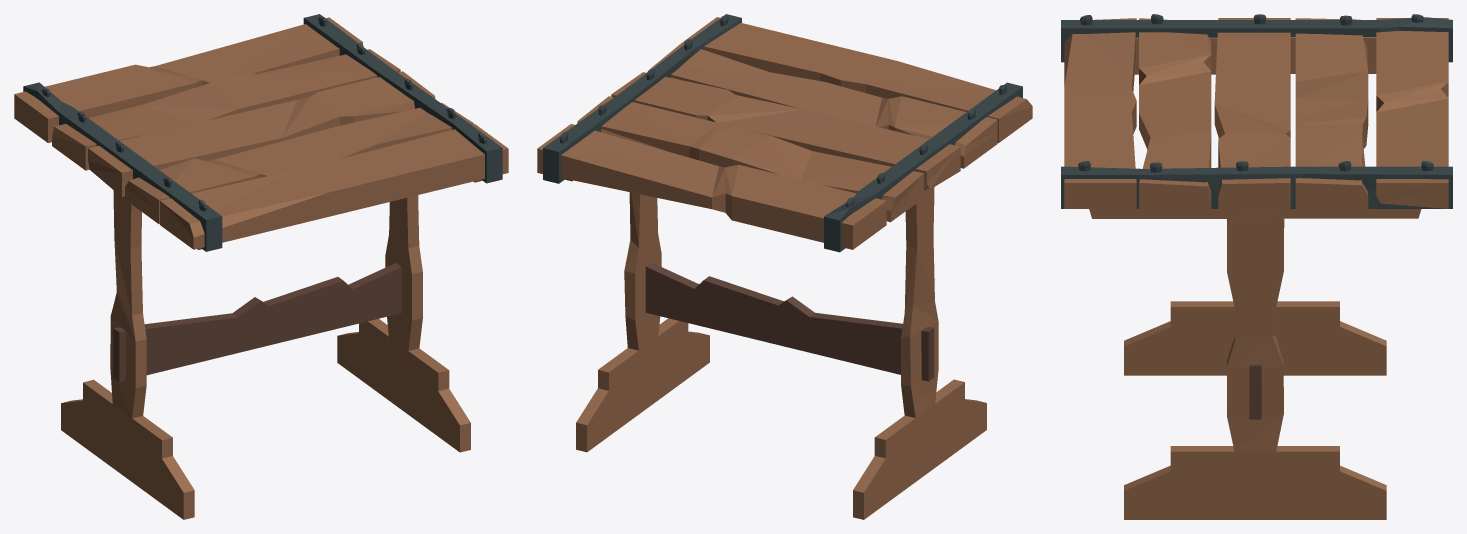
Rendered from Table_Big.obj.
The picture shows the model from 3 angles, left to right: view 1: azimuth 30°, elevation 25°; view 2: azimuth 150°, elevation 25°; view 3: azimuth 270°, elevation 25°; orthographic projection. The views are drawn at different scales.
Bounding box in the file's own units: 1 × 1 × 1.
